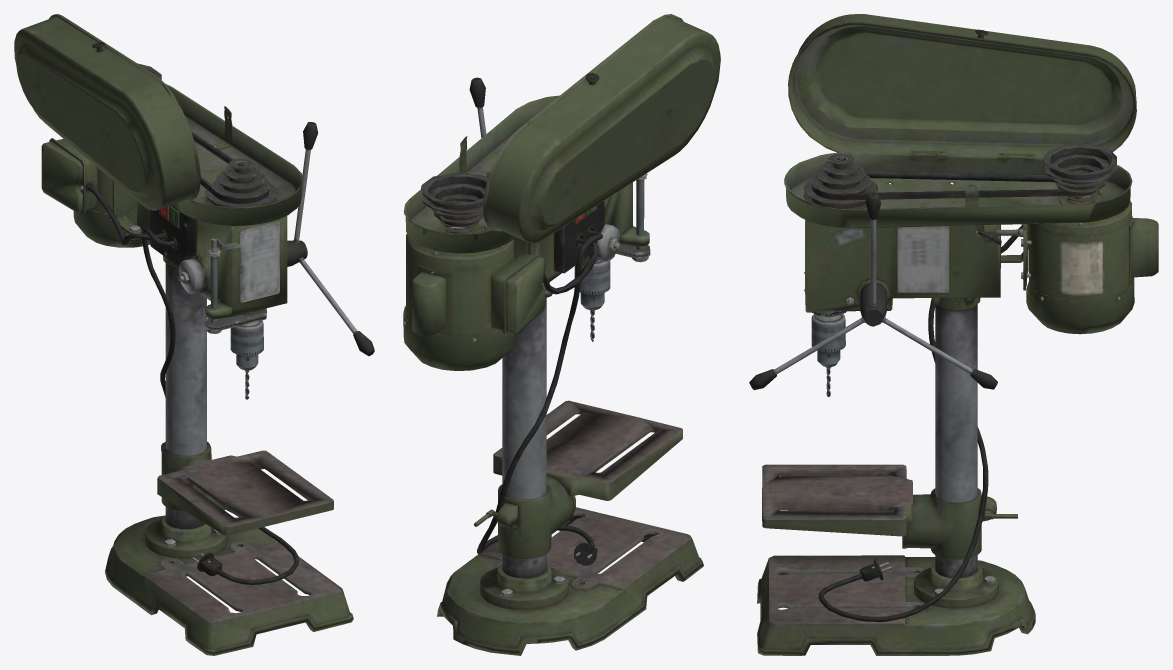
The model's file is drill-press.glb.
3 views of the same model, side by side, from view 1: azimuth 30°, elevation 25°; view 2: azimuth 150°, elevation 25°; view 3: azimuth 270°, elevation 25° (orthographic). The views are drawn at different scales.
Visible parts, largest first — view 1: drill_press_01, drill_press_01_lid, drill_press_01_plate, drill_press_01_plug, drill_press_01_gear_b, drill_press_01_handle, drill_press_01_limiter, drill_press_01_bit, drill_press_01_belt; view 2: drill_press_01, drill_press_01_lid, drill_press_01_plate, drill_press_01_gear_a, drill_press_01_plug, drill_press_01_bit, drill_press_01_limiter, drill_press_01_handle; view 3: drill_press_01, drill_press_01_lid, drill_press_01_plate, drill_press_01_handle, drill_press_01_belt, drill_press_01_gear_a, drill_press_01_plug, drill_press_01_gear_b, drill_press_01_bit.
Boxes of the visible parts, <box> form: drill_press_01: <box>41,84,353,655</box>; drill_press_01_lid: <box>14,14,200,210</box>; drill_press_01_plate: <box>157,441,333,535</box>; drill_press_01_plug: <box>142,229,298,584</box>; drill_press_01_gear_b: <box>205,158,277,207</box>; drill_press_01_handle: <box>287,122,374,356</box>; drill_press_01_limiter: <box>204,238,266,333</box>; drill_press_01_bit: <box>230,320,263,399</box>; drill_press_01_belt: <box>191,132,268,203</box>; drill_press_01: <box>403,95,703,655</box>; drill_press_01_lid: <box>483,14,720,242</box>; drill_press_01_plate: <box>493,400,682,558</box>; drill_press_01_gear_a: <box>421,172,487,233</box>; drill_press_01_plug: <box>477,230,602,565</box>; drill_press_01_bit: <box>574,260,610,341</box>; drill_press_01_limiter: <box>615,173,650,262</box>; drill_press_01_handle: <box>469,77,488,174</box>; drill_press_01: <box>757,151,1158,655</box>; drill_press_01_lid: <box>788,14,1136,159</box>; drill_press_01_plate: <box>762,464,996,559</box>; drill_press_01_handle: <box>749,192,997,390</box>; drill_press_01_belt: <box>812,171,1095,200</box>; drill_press_01_gear_a: <box>1043,144,1116,202</box>; drill_press_01_plug: <box>818,298,988,621</box>; drill_press_01_gear_b: <box>803,153,877,209</box>; drill_press_01_bit: <box>811,314,845,396</box>.
Bounding box in the file's own units: 0.3543 × 0.9011 × 0.5982.
Materials: 1 (1 with a texture image).
